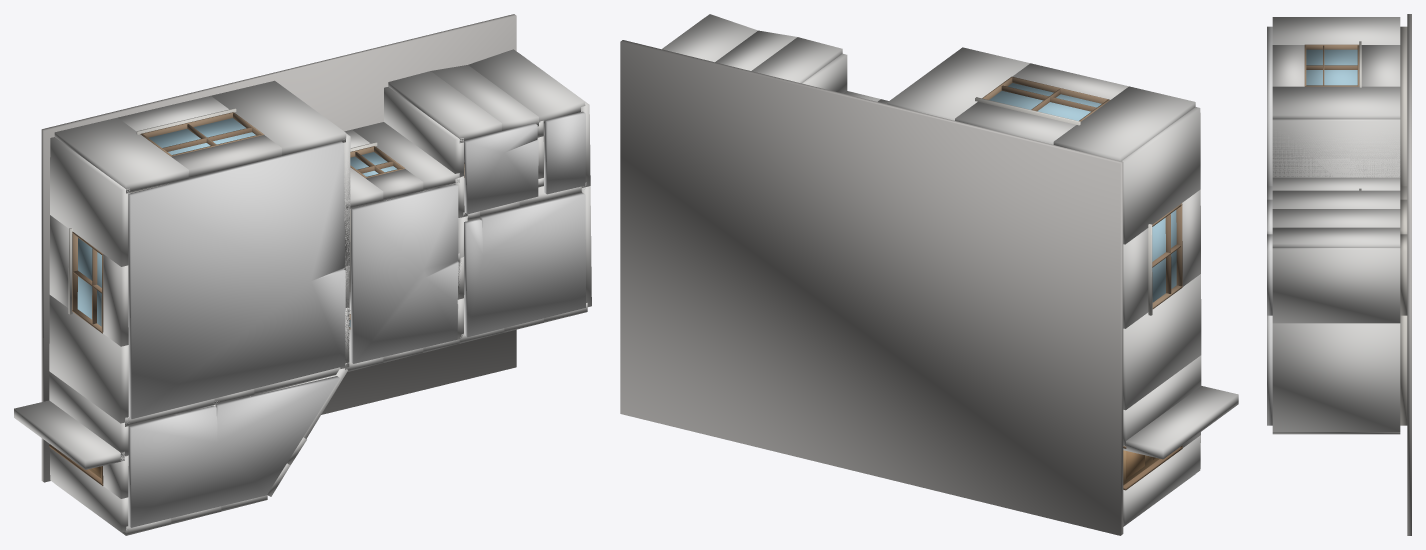
Rendered from uploaded_blueprint_scene.glb.
3 renders of one model, left to right at view 1: azimuth 30°, elevation 25°; view 2: azimuth 150°, elevation 25°; view 3: azimuth 270°, elevation 25°, orthographic. The views are drawn at different scales.
Parts seen in each view (by area): view 1: Ceilings, Walls, Plinth, Lintels, WindowGlasses, WindowFrames, WindowMullions, WindowSills; view 2: Plinth, Walls, Lintels, WindowGlasses, WindowFrames, WindowMullions, WindowSills; view 3: Walls, Floors, Plinth, Ceilings, WindowGlasses, Lintels, WindowFrames, WindowMullions.
Boxes of the visible parts, x1,y1,x2,y2 form: Ceilings: (128, 111, 585, 527); Walls: (14, 49, 591, 535); Plinth: (41, 14, 516, 482); Lintels: (103, 135, 543, 524); WindowGlasses: (77, 118, 397, 327); WindowFrames: (72, 112, 405, 333); WindowMullions: (73, 124, 393, 324); WindowSills: (68, 108, 377, 396); Plinth: (620, 40, 1123, 535); Walls: (662, 14, 1238, 526); Lintels: (877, 63, 1200, 447); WindowGlasses: (989, 83, 1176, 302); WindowFrames: (982, 76, 1182, 308); WindowMullions: (1001, 85, 1180, 293); WindowSills: (975, 97, 1152, 315); Walls: (1272, 17, 1400, 434); Floors: (1400, 26, 1407, 425); Plinth: (1407, 14, 1411, 535); Ceilings: (1267, 26, 1272, 425); WindowGlasses: (1306, 49, 1357, 85); Lintels: (1272, 45, 1304, 86); WindowFrames: (1304, 44, 1359, 86); WindowMullions: (1306, 45, 1357, 85).
Size of the model in its own units: 11.48 by 7.71 by 3.17.
